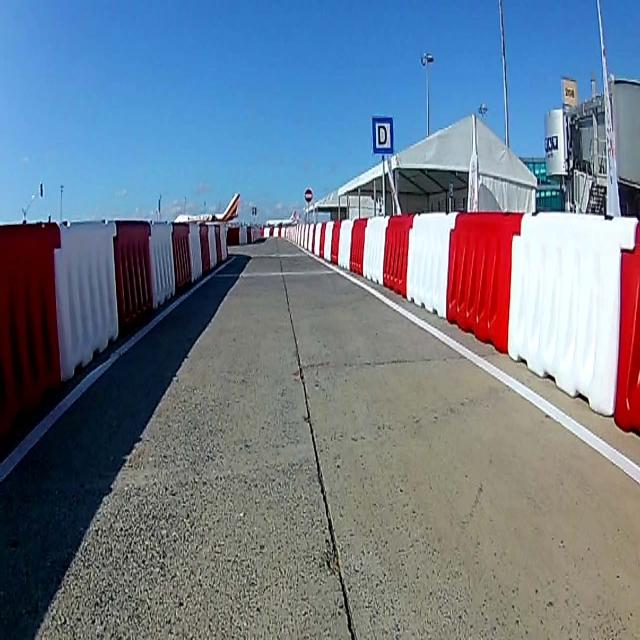durak: (373, 115, 393, 153)
girisyok: (304, 187, 313, 205)
